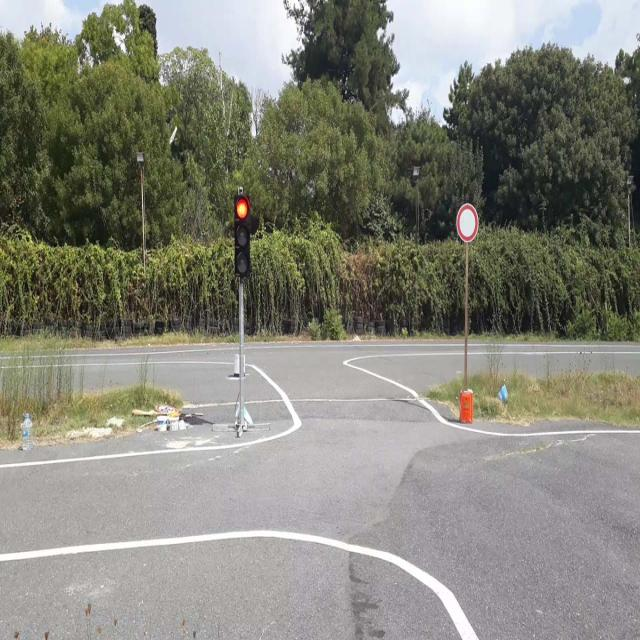kirmizi: (234, 195, 250, 276)
